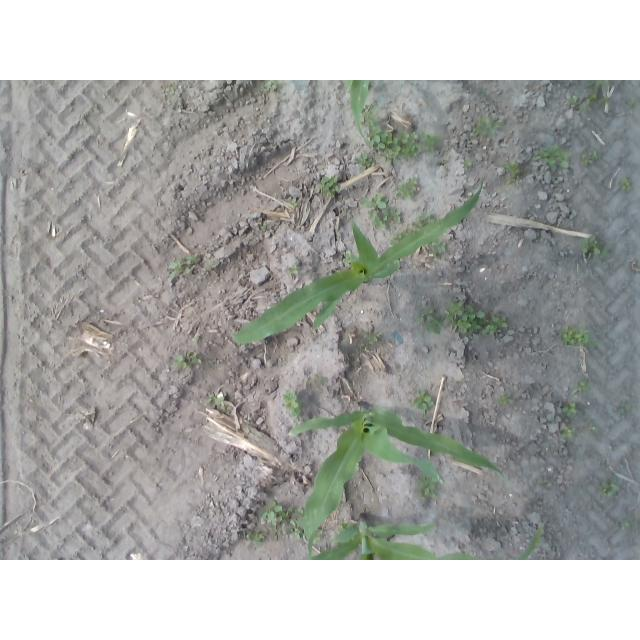Maize: (234, 183, 483, 344), (286, 410, 506, 557), (312, 513, 544, 560), (349, 82, 372, 147)
Weeds: (533, 144, 570, 172), (380, 133, 401, 160), (392, 178, 419, 199), (168, 260, 191, 281), (401, 132, 419, 157), (414, 390, 435, 411), (361, 194, 388, 210), (365, 121, 383, 144), (420, 480, 436, 505), (265, 502, 284, 523), (582, 234, 600, 255), (601, 479, 620, 497), (426, 315, 444, 333), (355, 156, 373, 173), (283, 393, 298, 409), (457, 316, 472, 332), (448, 301, 464, 316), (474, 116, 486, 136), (385, 207, 401, 221), (561, 403, 575, 418), (562, 328, 574, 345), (506, 163, 520, 177), (206, 394, 223, 405), (427, 136, 438, 153), (493, 315, 508, 327), (292, 402, 303, 417), (489, 119, 500, 134), (583, 153, 598, 164), (470, 310, 486, 320), (576, 332, 589, 344), (319, 177, 332, 189), (621, 177, 632, 191), (372, 219, 386, 229), (267, 81, 279, 92), (187, 357, 199, 368), (291, 528, 303, 539), (332, 174, 340, 190), (368, 209, 379, 220), (362, 105, 374, 115), (434, 243, 447, 252), (189, 254, 200, 264), (282, 507, 293, 517), (620, 403, 631, 413), (469, 323, 479, 334), (465, 305, 475, 316), (423, 307, 434, 317), (344, 250, 352, 263), (178, 356, 186, 369), (420, 211, 430, 221), (570, 97, 579, 108), (484, 325, 498, 332), (501, 396, 513, 404), (589, 82, 608, 87), (208, 259, 217, 269), (411, 218, 421, 227), (563, 428, 574, 436), (369, 332, 378, 341), (590, 424, 599, 433), (464, 160, 473, 169), (419, 313, 426, 324), (325, 191, 336, 198), (578, 382, 586, 391), (295, 508, 305, 515), (449, 315, 456, 325), (627, 101, 637, 108), (262, 222, 270, 230), (621, 522, 629, 530), (600, 249, 608, 257), (586, 94, 594, 102), (291, 266, 298, 275), (599, 97, 609, 103), (257, 533, 264, 541), (589, 338, 596, 346), (508, 177, 516, 184), (194, 337, 201, 344), (314, 537, 321, 544), (246, 530, 254, 536), (291, 199, 297, 206), (540, 477, 546, 484), (170, 87, 175, 95), (318, 378, 326, 383), (570, 390, 578, 395), (586, 383, 593, 388), (207, 360, 213, 365)
